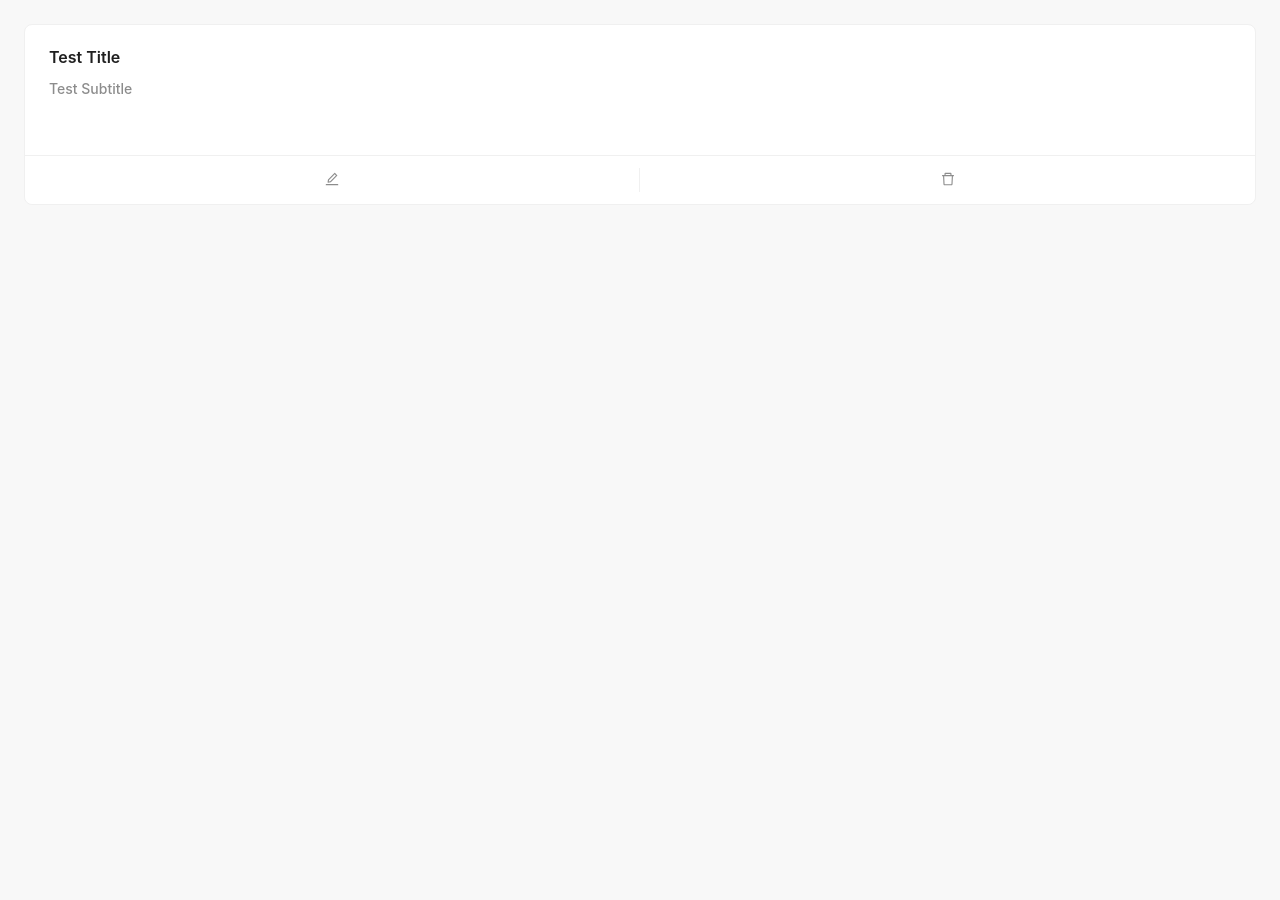
Test: Card Component › opens the edit modal
This screenshot has width=1280, height=900.
Note: Click the button to open the edit modal
Click the button with test id "edit-card-button" at (332, 179), box x1=325 y1=172 x2=339 y2=186
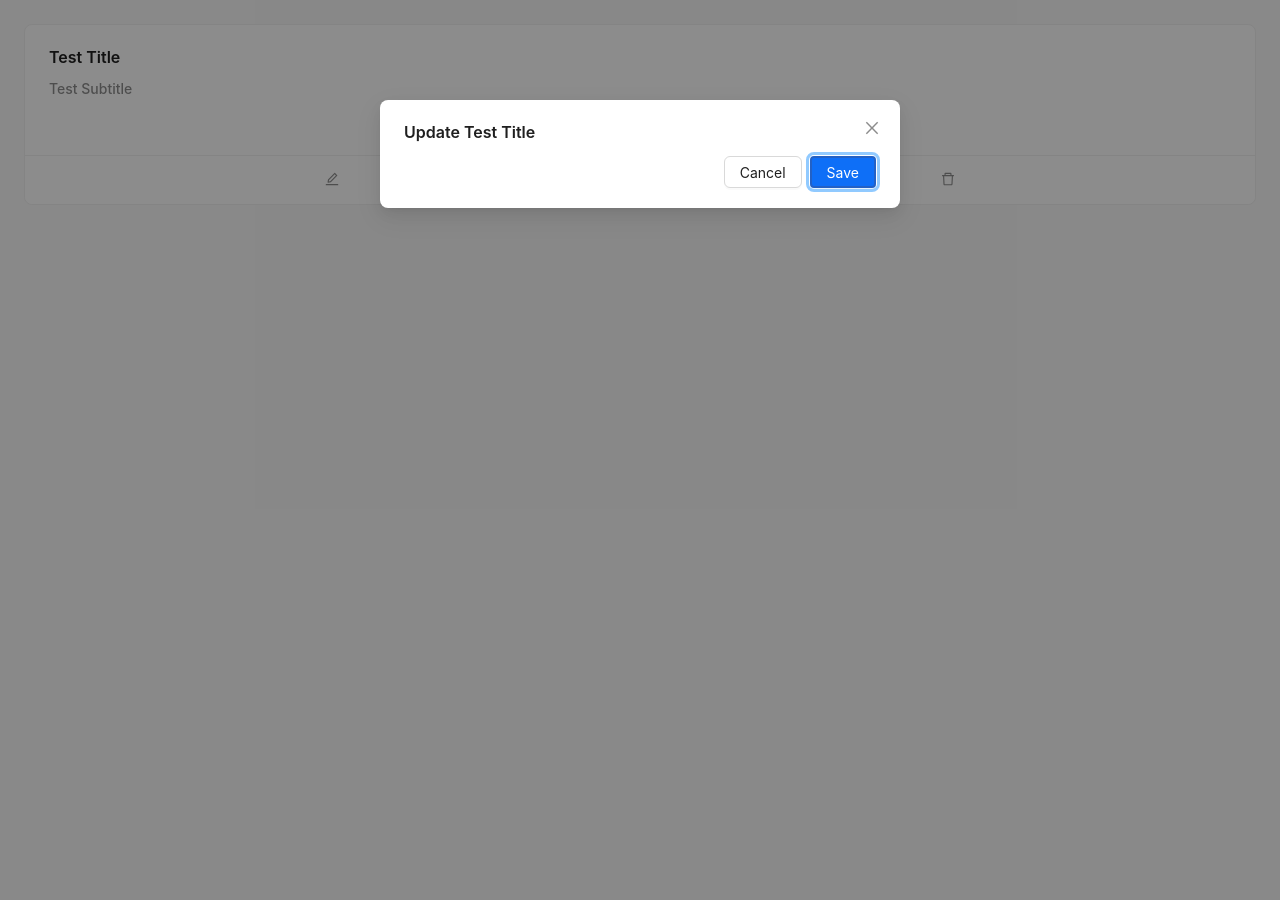
expect the dialog is shown: met, box x1=380 y1=100 x2=900 y2=232
